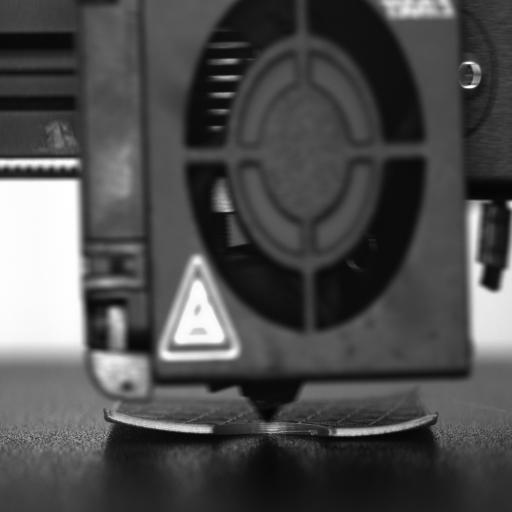warp: (368, 404, 446, 451), (97, 404, 155, 444)
